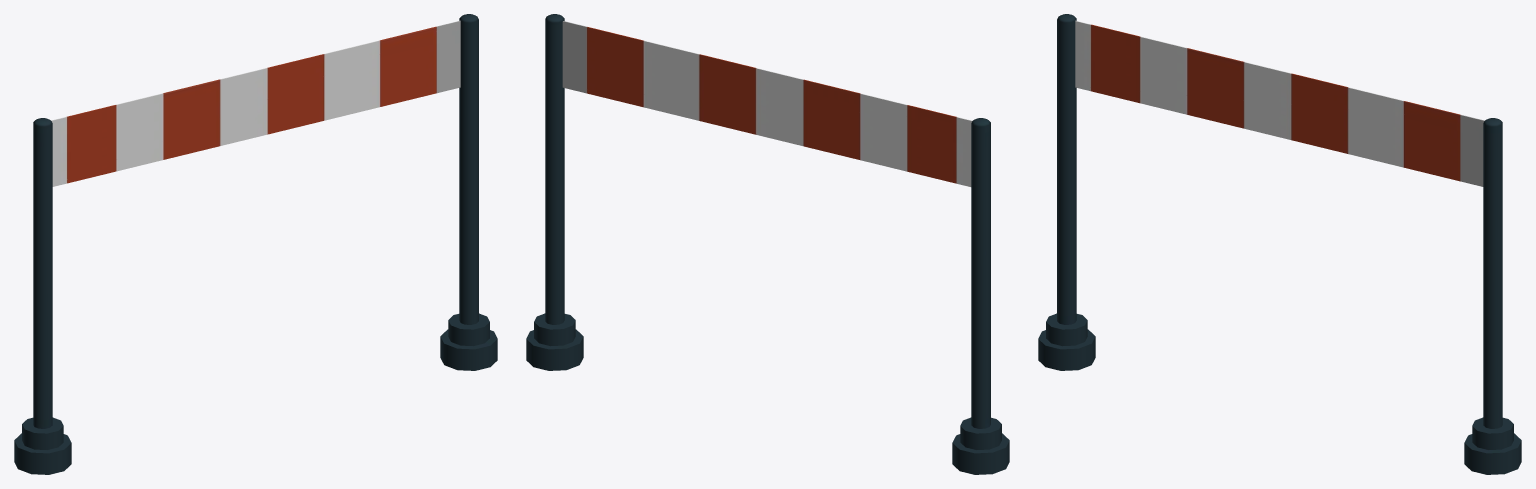
The model's file is hurdle-transformed.glb.
3 renders of one model, left to right at view 1: azimuth 30°, elevation 25°; view 2: azimuth 150°, elevation 25°; view 3: azimuth 330°, elevation 25°, orthographic.
Visible parts, largest first — view 1: obstacels; view 2: obstacels; view 3: obstacels.
Boxes of the visible parts, x1,y1,x2,y2 form: obstacels: [14, 14, 497, 474]; obstacels: [526, 14, 1009, 474]; obstacels: [1038, 14, 1521, 474].
Size of the model in its own units: 1.24 by 0.8563 by 0.1238.
1 material, 1 textured.
